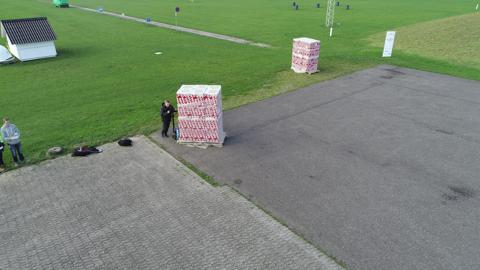RockwoolPallet: (176, 84, 227, 147)
